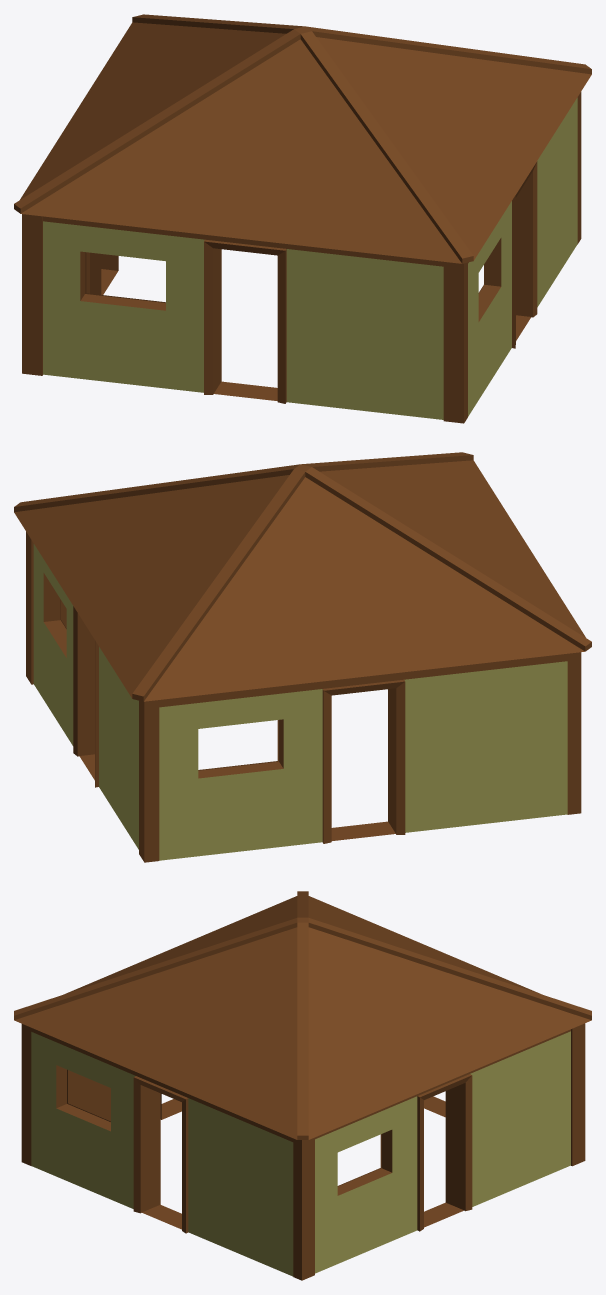
The model's file is simpleStorageHouse.fbx.
3 renders of one model, top to bottom at view 1: azimuth 30°, elevation 25°; view 2: azimuth 150°, elevation 25°; view 3: azimuth 270°, elevation 25°, orthographic. The views are drawn at different scales.
Visible parts, largest first — view 1: Cone; view 2: Cone; view 3: Cone.
Part boxes in pixels (x1,y1,x2,y2): Cone: (14,14,591,423); Cone: (14,452,591,862); Cone: (14,891,591,1280).
Bounding box in the file's own units: 789 × 364 × 789.
